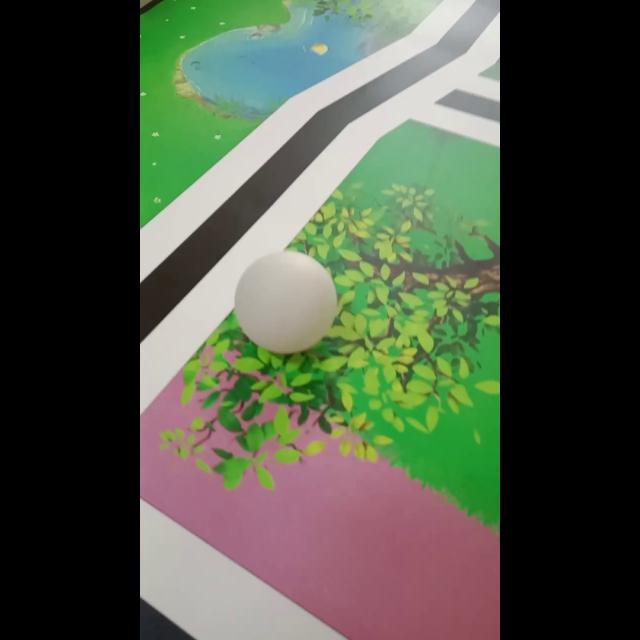white ball: (234, 249, 338, 355)
